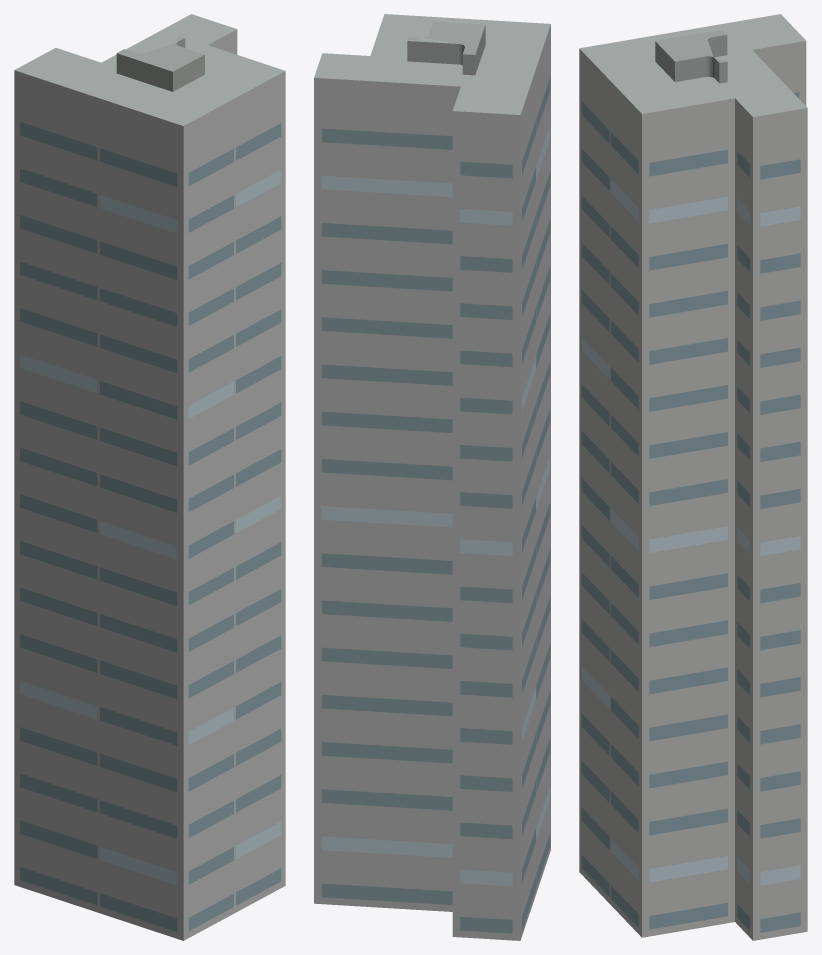
File: fallback-songpa-helio-city-201.glb
The picture shows the model from 3 angles, left to right: view 1: azimuth 30°, elevation 25°; view 2: azimuth 150°, elevation 25°; view 3: azimuth 270°, elevation 25°; orthographic projection.
Parts seen in each view (by area): view 1: fallback-songpa-helio-city-201; view 2: fallback-songpa-helio-city-201; view 3: fallback-songpa-helio-city-201.
Boxes of the visible parts, <box> form: fallback-songpa-helio-city-201: <box>14,14,285,940</box>; fallback-songpa-helio-city-201: <box>314,14,550,940</box>; fallback-songpa-helio-city-201: <box>579,14,807,940</box>.
Size of the model in its own units: 25.97 by 99 by 24.27.
